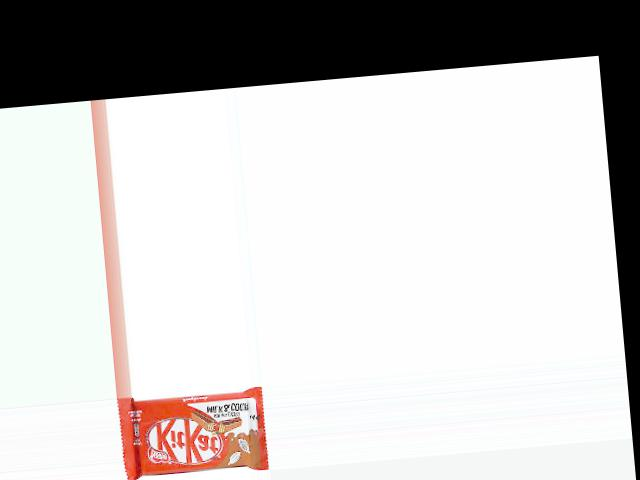chocolate: (118, 385, 270, 480)
